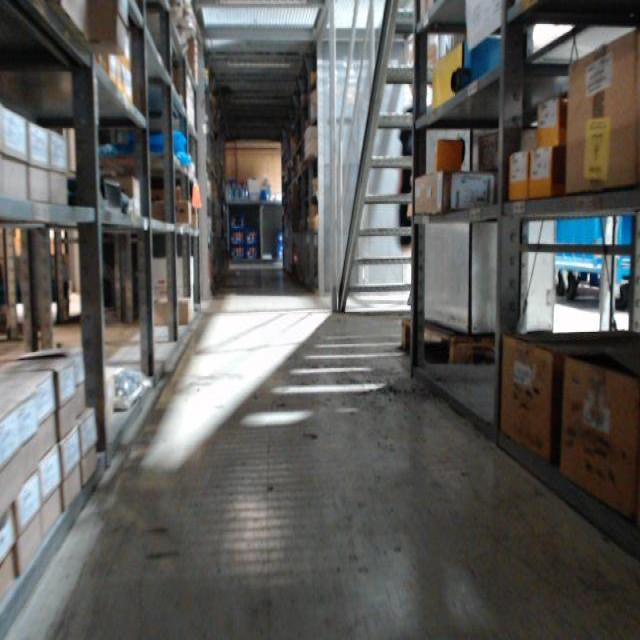pallet: (399, 315, 500, 371)
